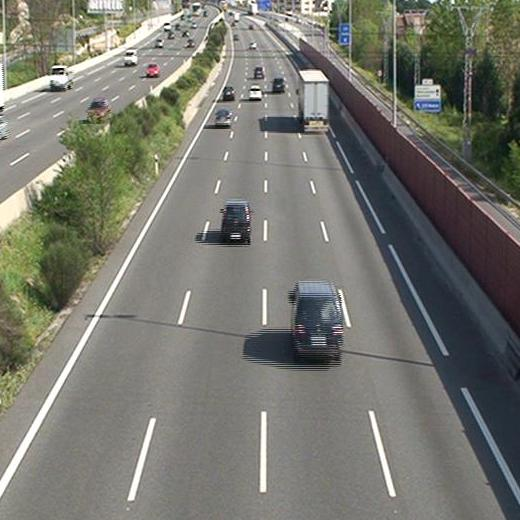car: (290, 282, 343, 357), (221, 203, 250, 240), (215, 109, 230, 126), (249, 85, 263, 100), (272, 77, 286, 92), (254, 64, 266, 79), (222, 87, 234, 100)
truck: (297, 69, 327, 133)
